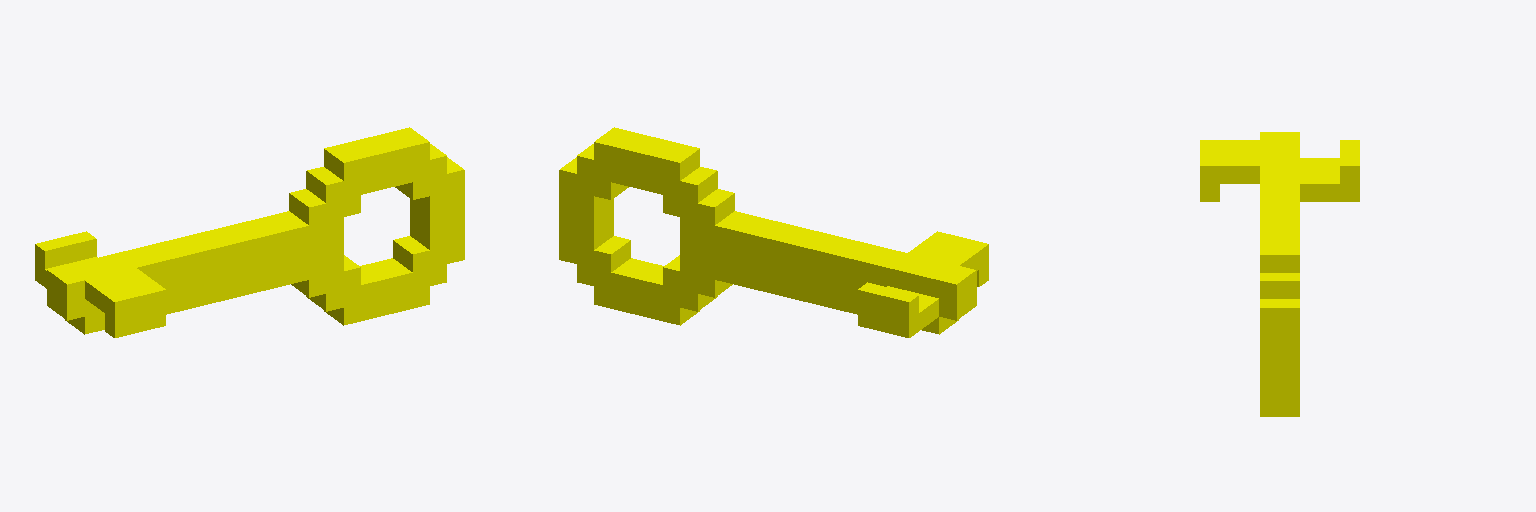
3 views of the same model, side by side, from view 1: azimuth 30°, elevation 25°; view 2: azimuth 150°, elevation 25°; view 3: azimuth 270°, elevation 25° (orthographic).
Parts seen in each view (by area): view 1: object 1; view 2: object 1; view 3: object 1.
Boxes of the visible parts, box(x1,y1,x2,y2) form: object 1: box(35, 127, 464, 337); object 1: box(559, 127, 988, 337); object 1: box(1200, 132, 1359, 416).
Bounding box in the file's own units: 2.3 × 0.9 × 0.8.
1 materials, 1 textured.